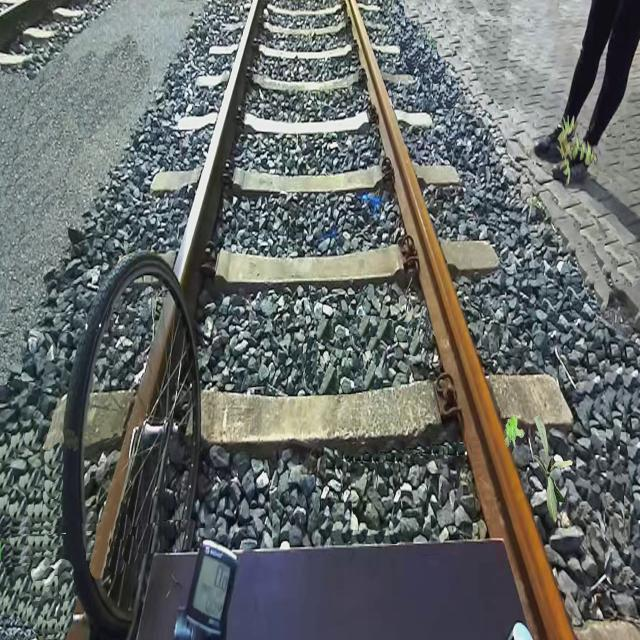Plant: (533, 414, 573, 524), (556, 114, 598, 186), (504, 415, 524, 448)
